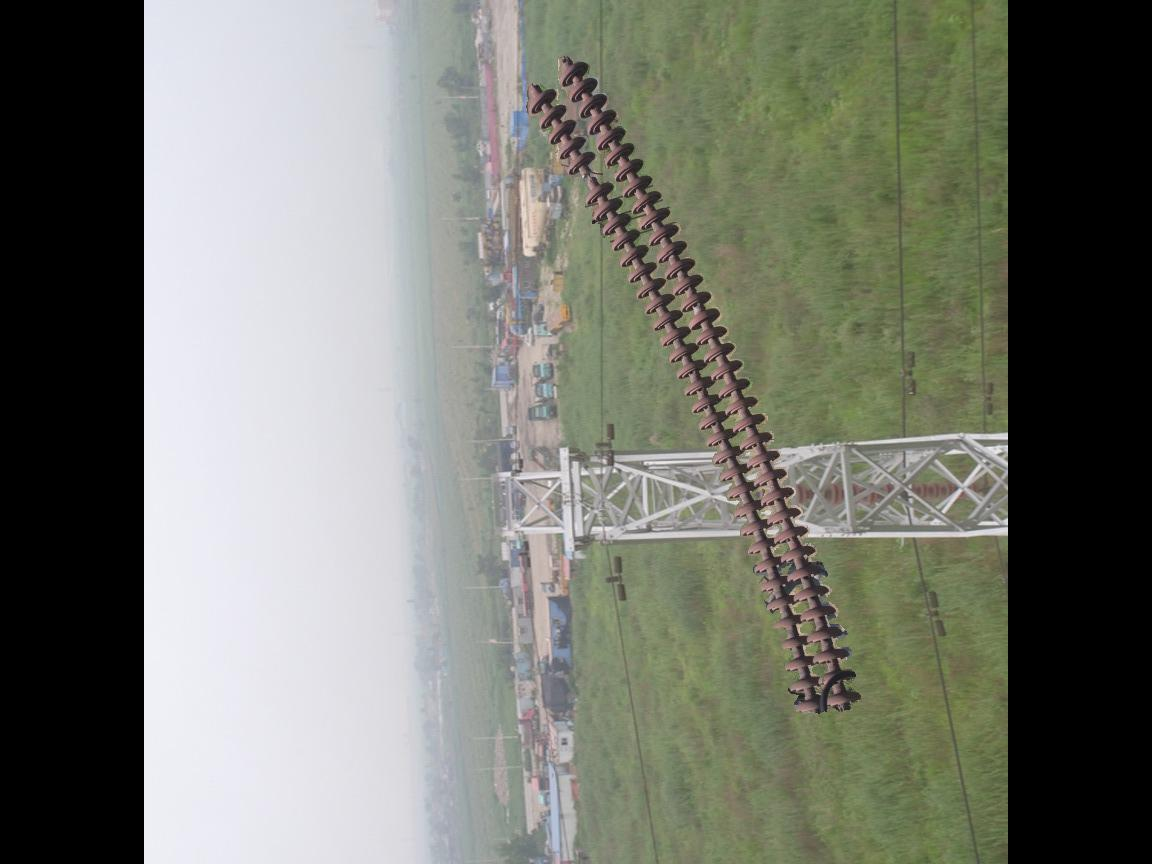insulator: (516, 55, 862, 721), (794, 470, 993, 508)
insulator_stringdrop: (564, 149, 616, 210)
